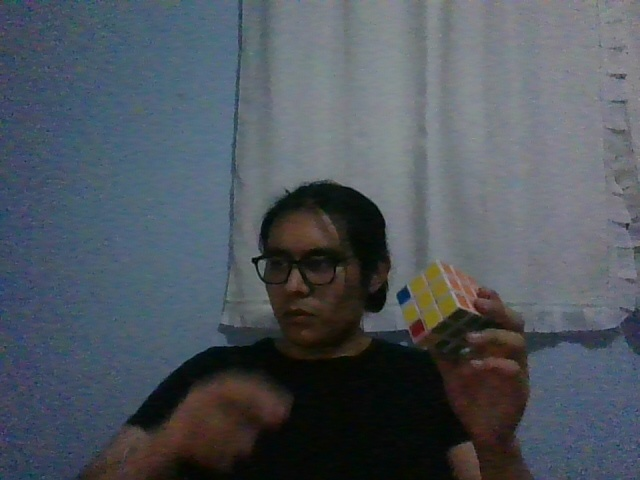rubik: (396, 259, 489, 357)
